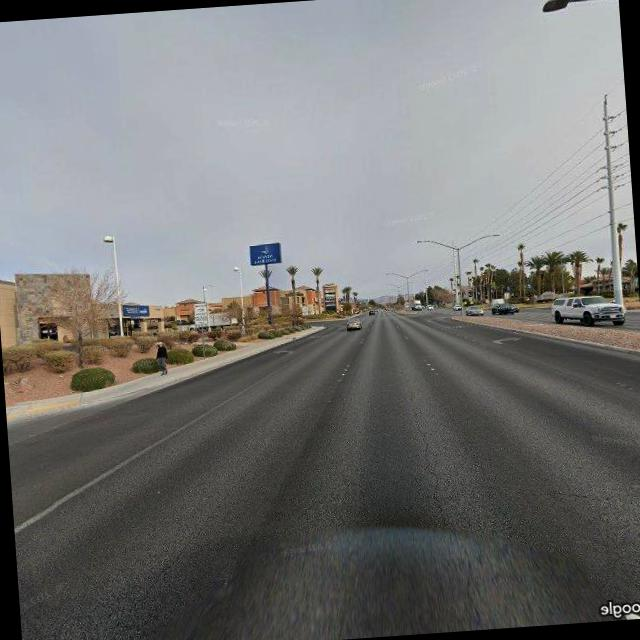crack: (414, 414, 451, 528)
